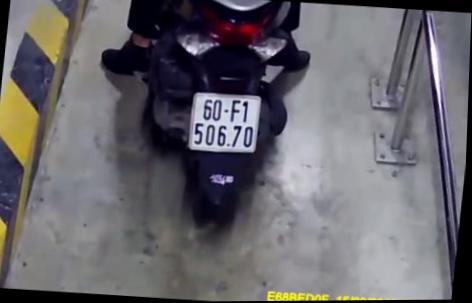LP: (188, 89, 264, 154)
